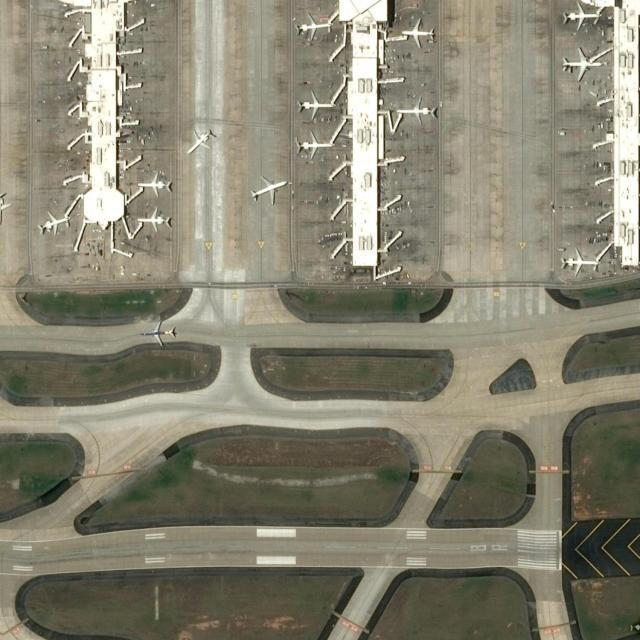Aircraft: (562, 48, 604, 85), (396, 96, 441, 127), (297, 89, 337, 123), (560, 247, 602, 279), (563, 2, 605, 34), (294, 131, 336, 163), (294, 13, 336, 43), (402, 19, 438, 53), (251, 176, 290, 207), (138, 208, 174, 236), (139, 171, 175, 199), (38, 212, 72, 239), (187, 128, 217, 158)
